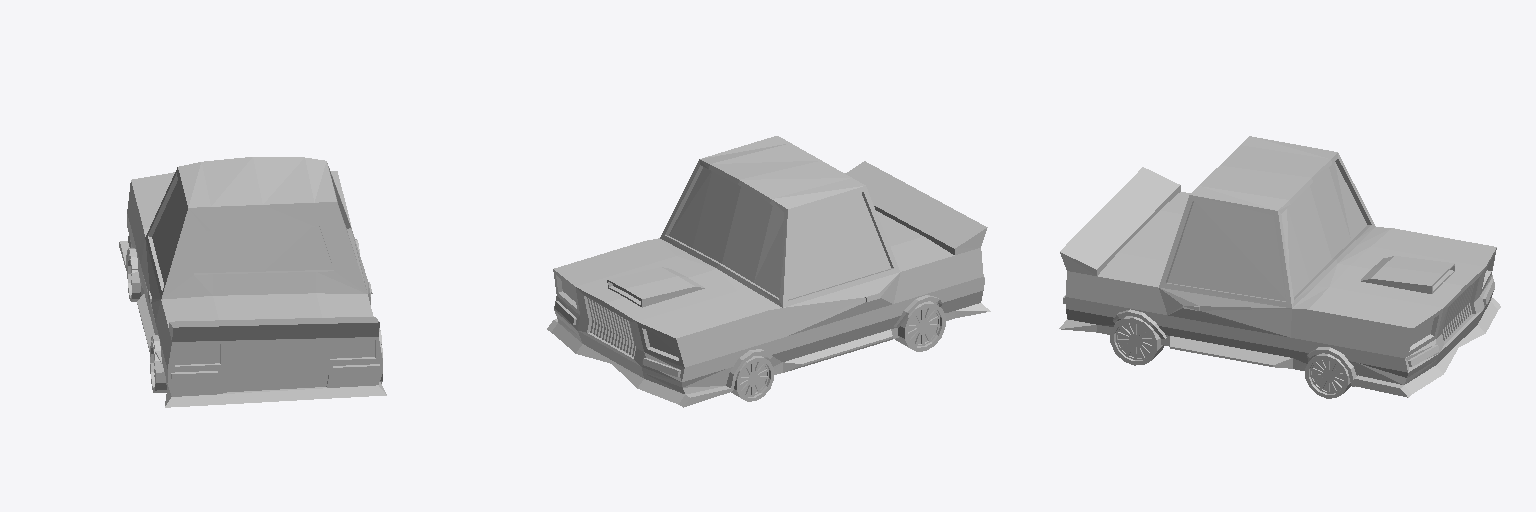
The model's file is Low-Poly-Racing-Car1.obj.
The picture shows the model from 3 angles: view 1: azimuth 30°, elevation 25°; view 2: azimuth 150°, elevation 25°; view 3: azimuth 270°, elevation 25°; orthographic projection.
Visible parts, largest first — view 1: body_ID56, backlight_ID75, wheel.1_ID84; view 2: body_ID56, wheel.1_ID84, lattice.1_ID29, wheel1.1_ID93, headlight_ID66; view 3: body_ID56, wheel.1_ID84, wheel1.1_ID93, lattice.1_ID29.
Boxes of the visible parts, box(x1,y1,x2,y2) form: body_ID56: box(119, 157, 386, 407); backlight_ID75: box(175, 340, 374, 364); wheel.1_ID84: box(150, 341, 382, 392); body_ID56: box(547, 136, 990, 407); wheel.1_ID84: box(895, 301, 945, 351); lattice.1_ID29: box(587, 298, 635, 356); wheel1.1_ID93: box(731, 356, 773, 401); headlight_ID66: box(561, 279, 677, 356); body_ID56: box(1059, 136, 1500, 397); wheel.1_ID84: box(1110, 316, 1163, 365); wheel1.1_ID93: box(1305, 353, 1351, 398); lattice.1_ID29: box(1442, 282, 1474, 341).
Size of the model in its own units: 2.16 by 1.11 by 2.64.